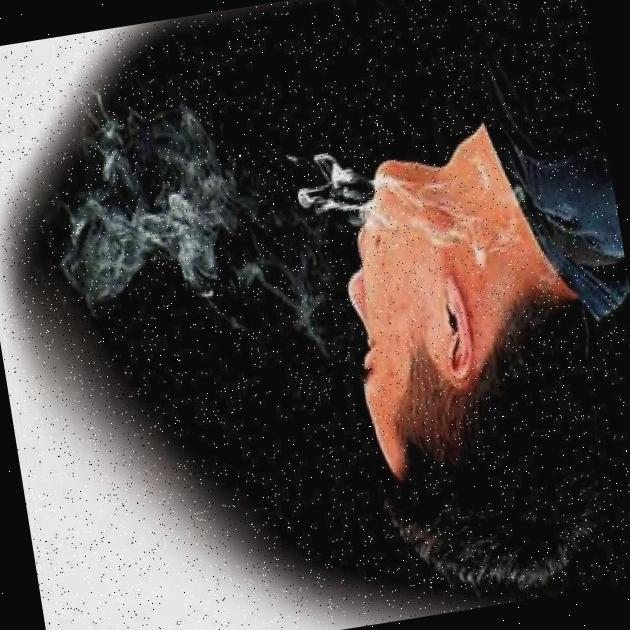smoke: (294, 128, 541, 286), (54, 108, 245, 308)
